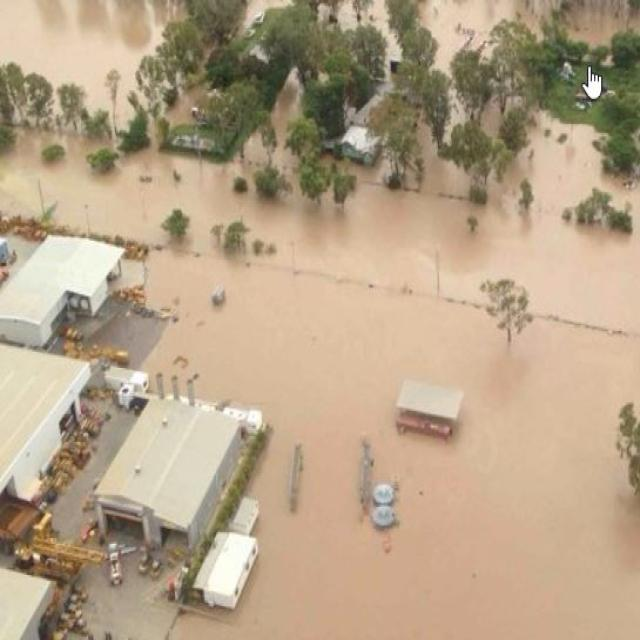flooded_areas: (161, 250, 639, 638), (156, 25, 627, 206)
